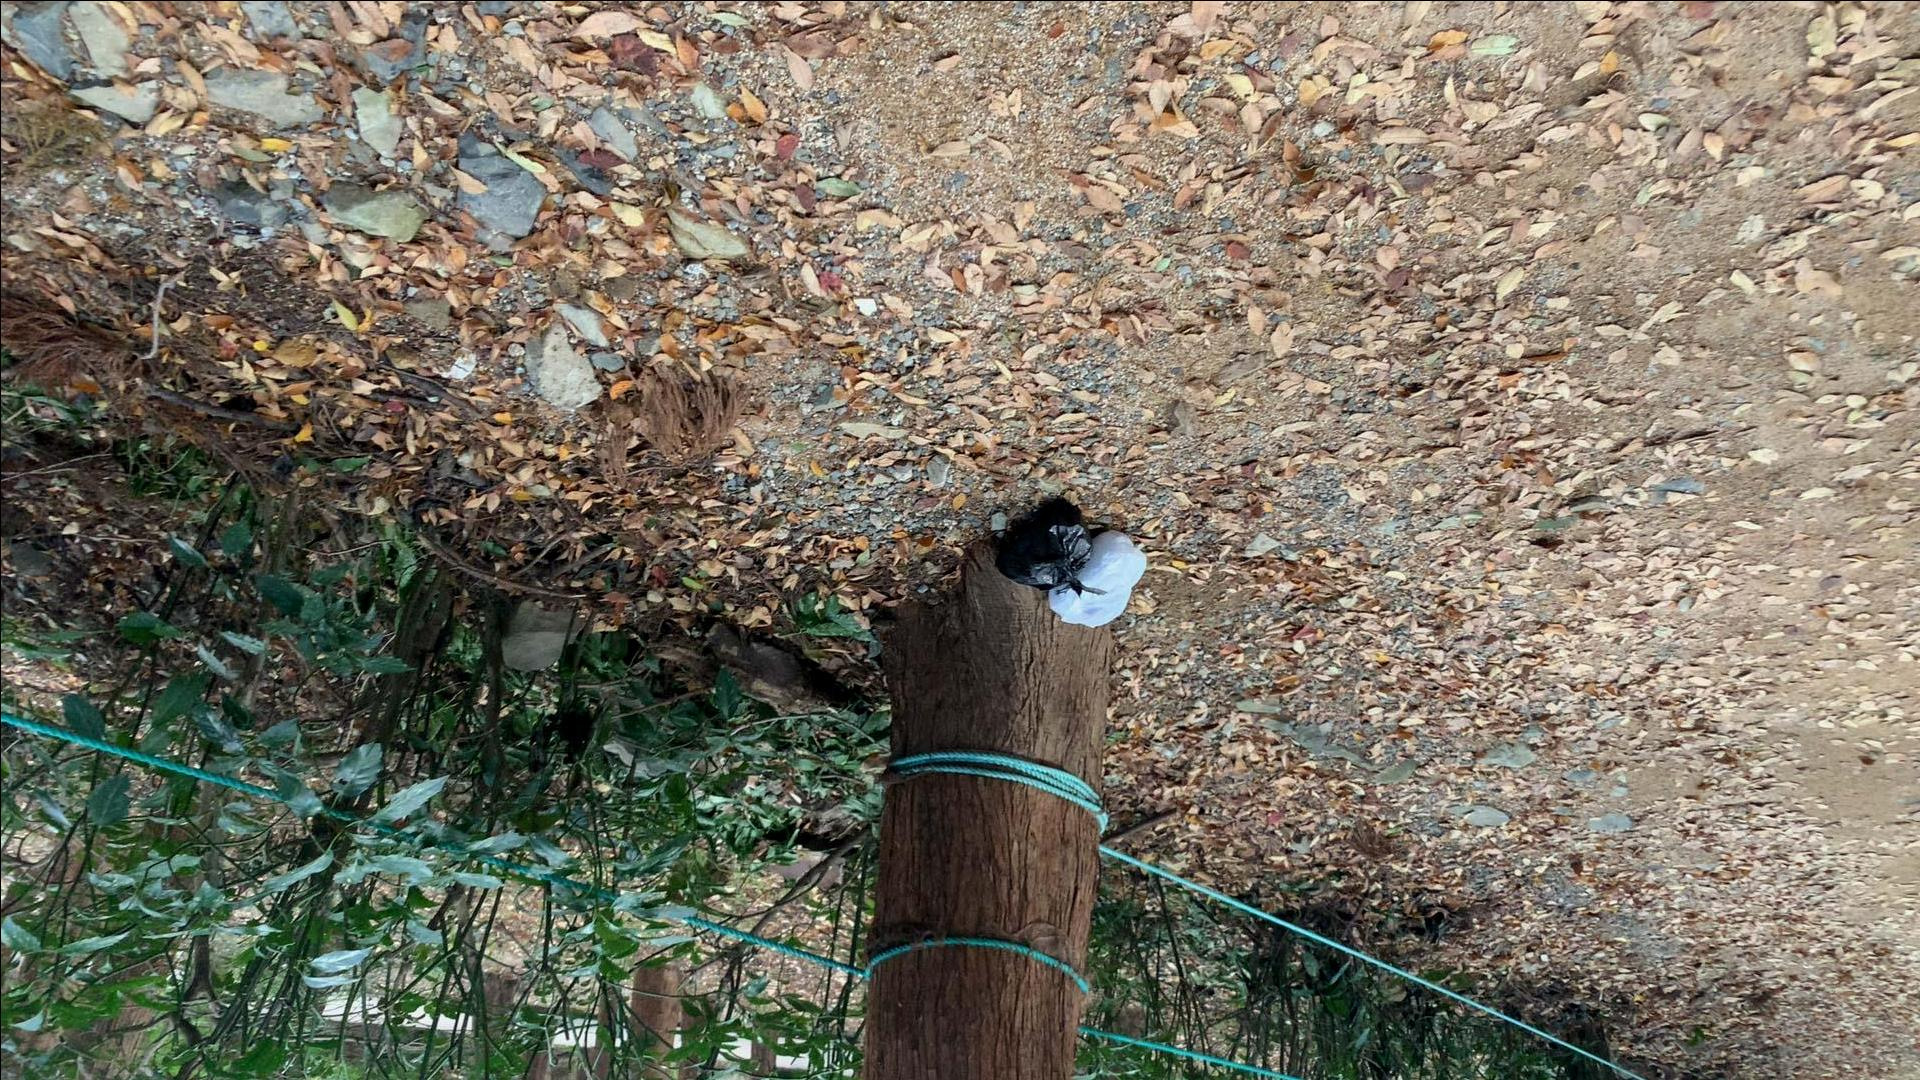black_bag: (990, 498, 1110, 603)
white_bag: (1046, 529, 1160, 632)
